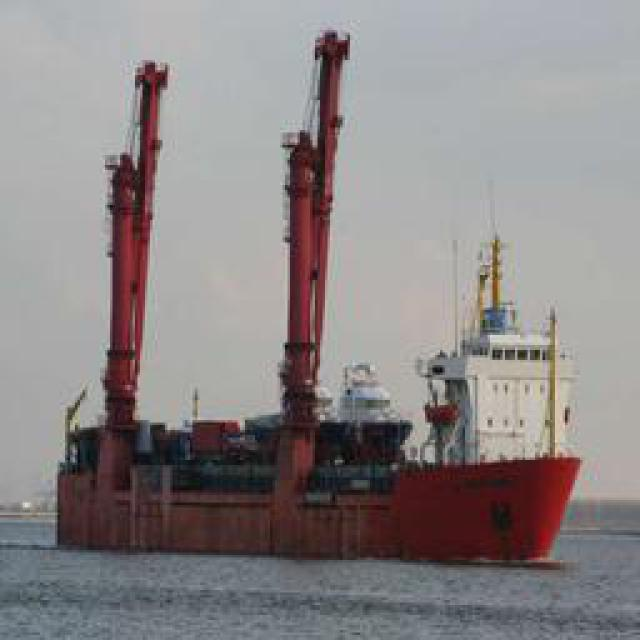Ship: (45, 26, 588, 565)
